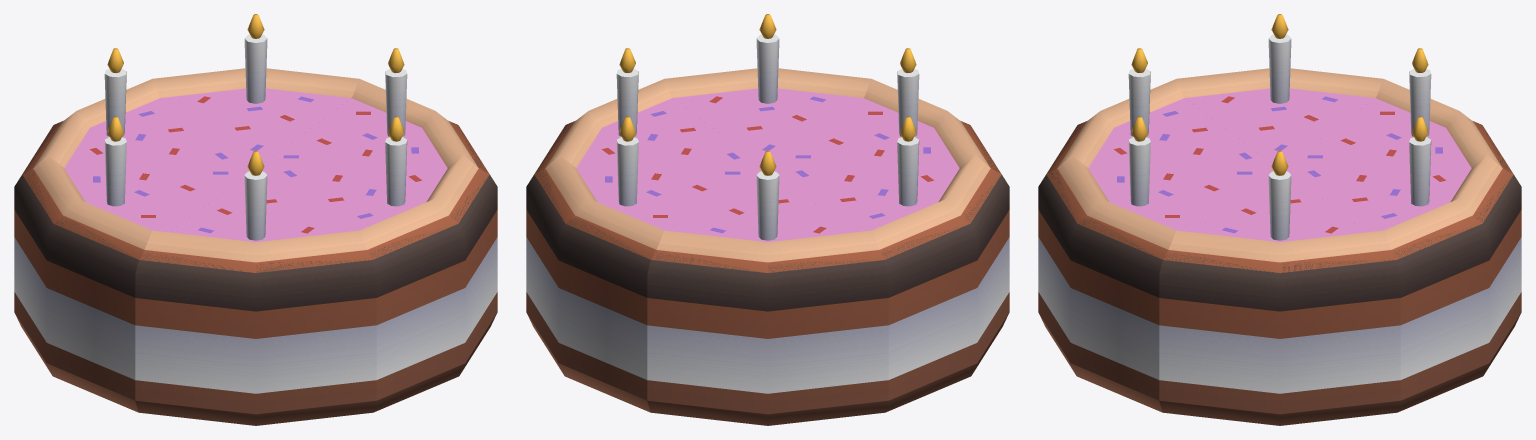
Rendered from food-cake-birthday.glb.
3 views of the same model, side by side, from view 1: azimuth 30°, elevation 25°; view 2: azimuth 150°, elevation 25°; view 3: azimuth 270°, elevation 25° (orthographic).
Visible parts, largest first — view 1: slice; view 2: slice; view 3: slice.
Part boxes in pixels (box(x1,y1,x2,y2)): slice: box(14, 14, 497, 425); slice: box(526, 14, 1009, 425); slice: box(1038, 14, 1521, 425).
Size of the model in its own units: 0.6392 by 0.3638 by 0.6392.
1 material, 1 textured.
